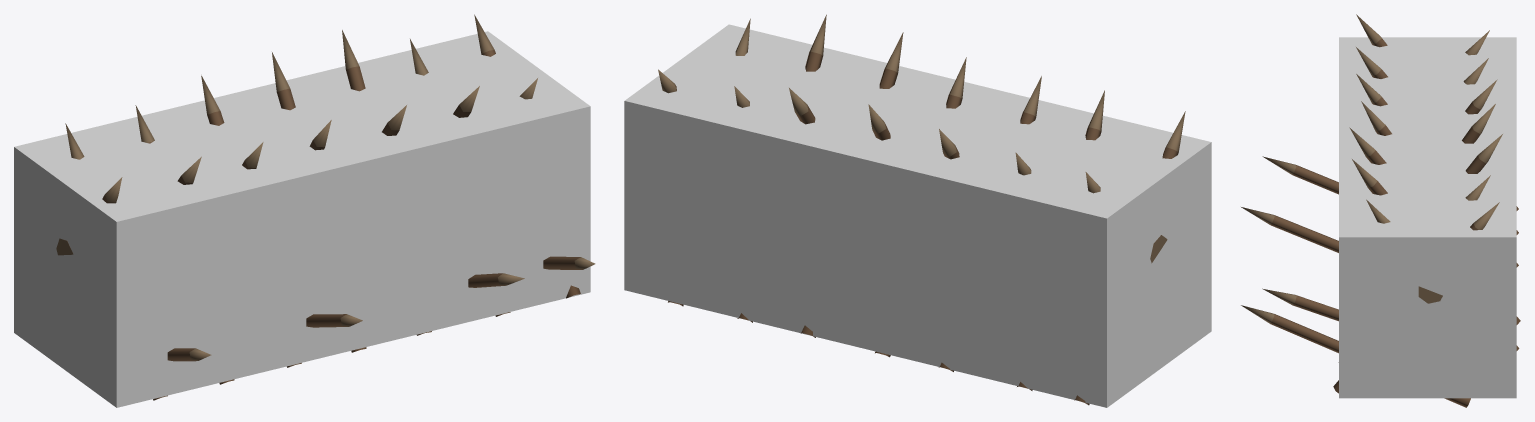
Rendered from barricade.glb.
The picture shows the model from 3 angles, left to right: view 1: azimuth 30°, elevation 25°; view 2: azimuth 150°, elevation 25°; view 3: azimuth 270°, elevation 25°; orthographic projection. The views are drawn at different scales.
Visible parts, largest first — view 1: COL_barricade, barricade; view 2: COL_barricade, barricade; view 3: COL_barricade, barricade.
Boxes of the visible parts, <box> form: COL_barricade: <box>14,31,590,407</box>; barricade: <box>56,14,595,400</box>; COL_barricade: <box>624,24,1211,407</box>; barricade: <box>658,14,1185,405</box>; COL_barricade: <box>1339,37,1516,398</box>; barricade: <box>1241,14,1520,407</box>.
Size of the model in its own units: 4 by 2.06 by 2.37.
